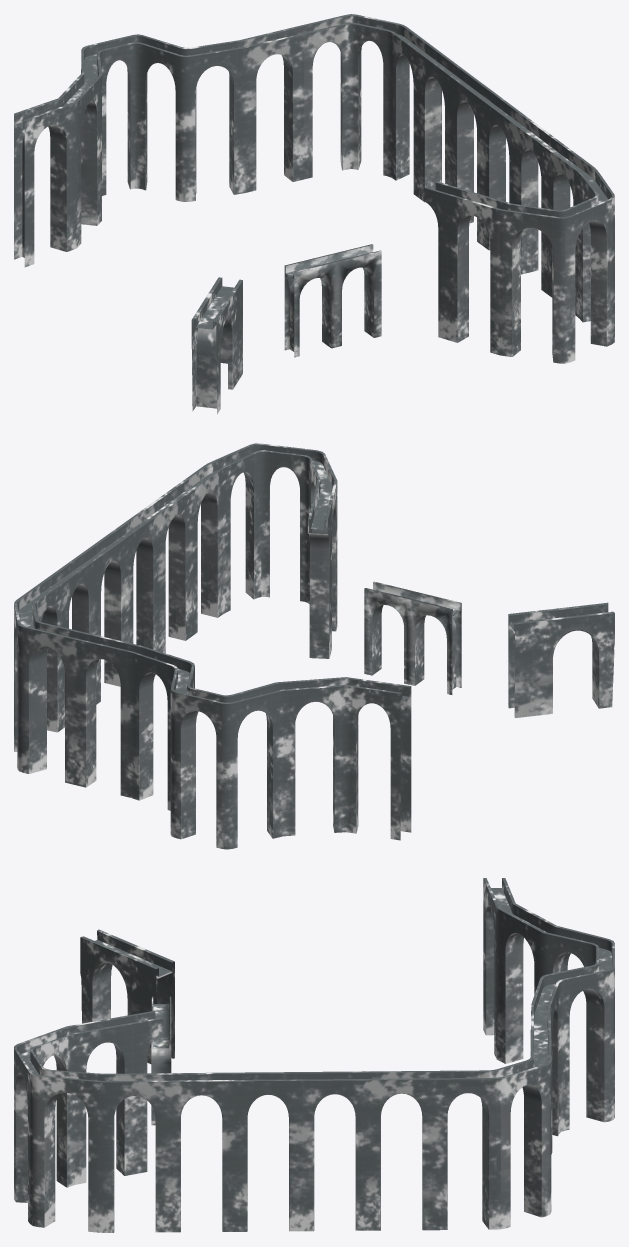
The model's file is field_winter_insidewall.fbx.
3 renders of one model, top to bottom at view 1: azimuth 30°, elevation 25°; view 2: azimuth 150°, elevation 25°; view 3: azimuth 270°, elevation 25°, orthographic. The views are drawn at different scales.
Parts seen in each view (by area): view 1: field_winter_insidewall; view 2: field_winter_insidewall; view 3: field_winter_insidewall.
Part boxes in pixels (x1=…): field_winter_insidewall: x1=14, y1=14, x2=614, y2=414; field_winter_insidewall: x1=14, y1=443, x2=614, y2=849; field_winter_insidewall: x1=14, y1=878, x2=614, y2=1232.
Size of the model in its own units: 4466 by 1626 by 5517.
1 material, 1 textured.
